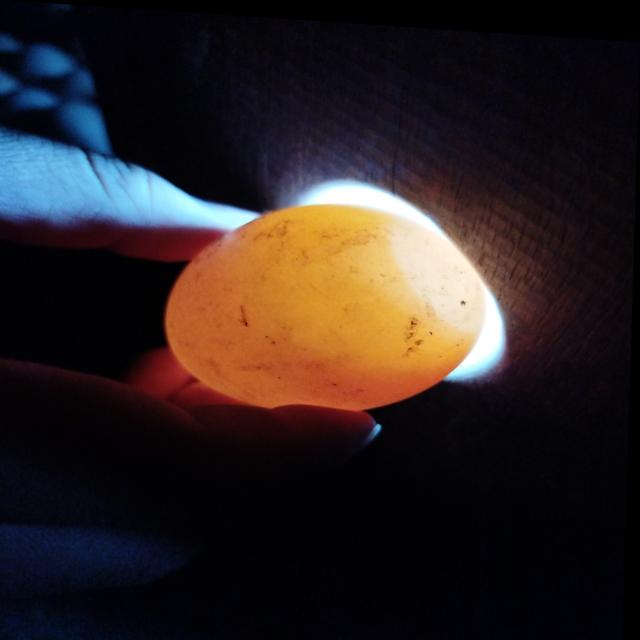Camara de Ar: (392, 215, 488, 322)
Gema Quebrada: (166, 212, 463, 404)
